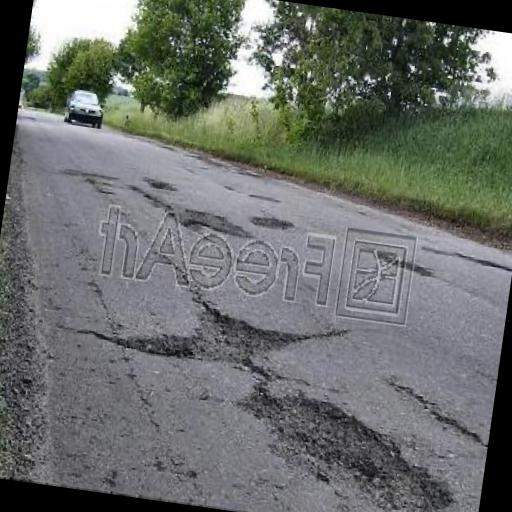pothole: (224, 380, 470, 512), (118, 293, 312, 375), (170, 204, 256, 242), (250, 210, 296, 230)
